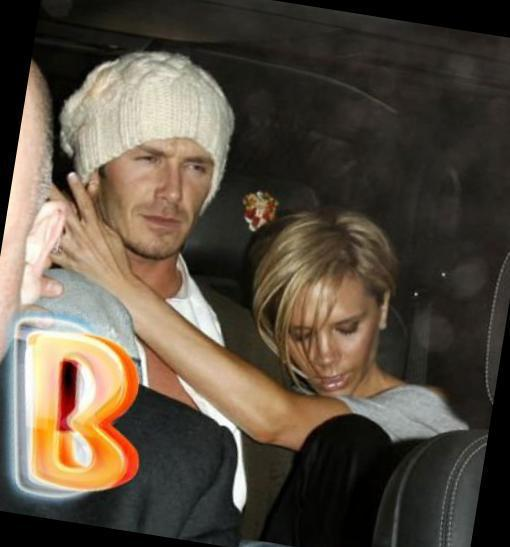Drunk: (107, 135, 209, 261), (278, 278, 377, 394)
